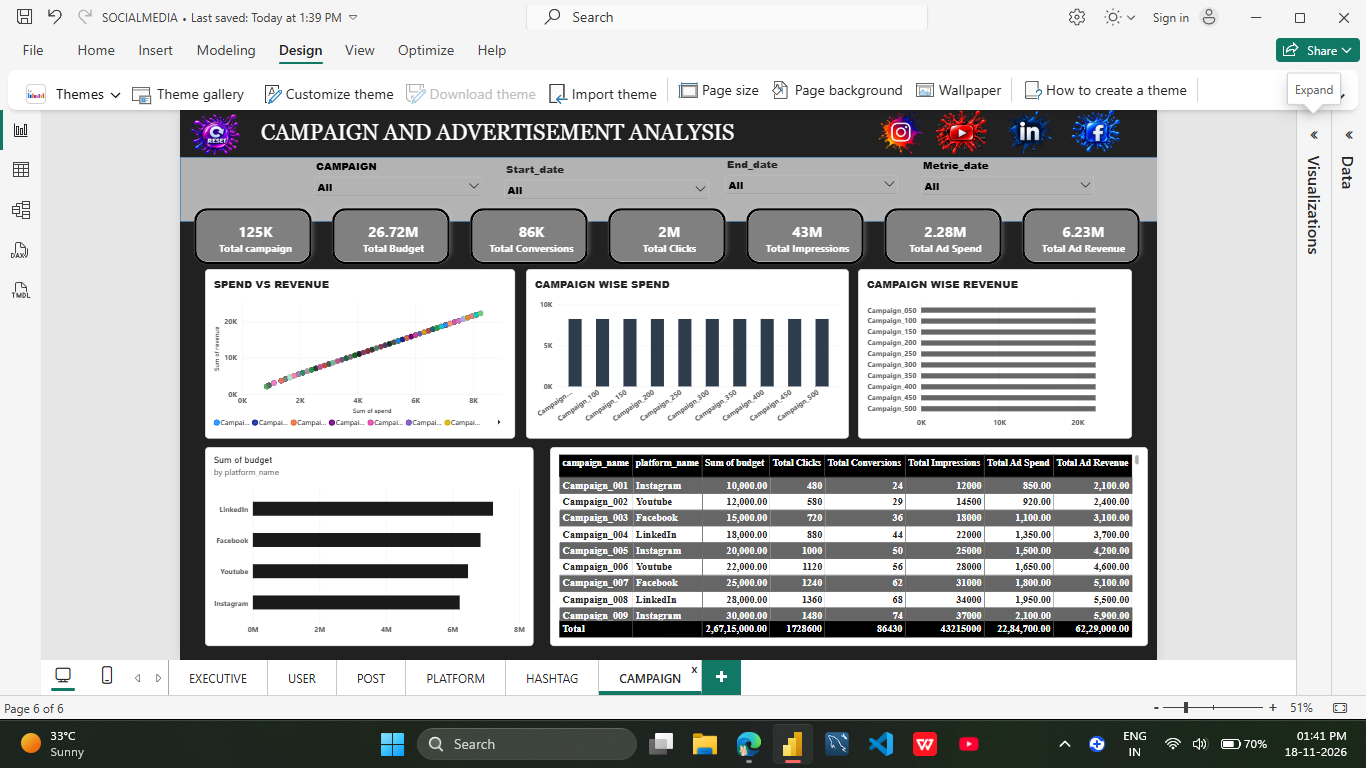

The page's visual inventory and layout, read from the dashboard file:
{"tool":"powerbi","page":{"name":"CAMPAIGN","canvas":[1920,1080],"ordinal":5},"visuals":[{"type":"shape","box":[0,91.5,1920,127.3],"z":0,"group":"g1"},{"type":"group","id":"g1","title":"Group 1","box":[0,91.5,1920,227.7],"z":0},{"type":"cardVisual","fields":{"Data":["social_media campaigns.Total campaign","social_media campaigns.Total Budget","social_media campaigns.Total Conversions","social_media campaigns.Total Clicks","social_media campaigns.Total Impressions","social_media campaigns.Total Ad Spend","social_media campaigns.Total Ad Revenue"]},"box":[11.2,176.7,1895.4,142.9],"z":1,"group":"g1"},{"type":"clusteredBarChart","title":"CAMPAIGN WISE REVENUE","fields":{"Category":["social_media campaigns.campaign_name"],"Y":["Sum(social_media adperformance.revenue)"]},"box":[1330.6,312.6,538,332.7],"z":1000},{"type":"clusteredColumnChart","title":"CAMPAIGN WISE SPEND","fields":{"Category":["social_media campaigns.campaign_name"],"Y":["Sum(social_media adperformance.spend)"]},"box":[678.7,312.6,634,332.7],"z":2000},{"type":"scatterChart","title":"SPEND VS REVENUE","fields":{"Series":["social_media campaigns.campaign_name"],"X":["Sum(social_media adperformance.spend)"],"Y":["Sum(social_media adperformance.revenue)"]},"box":[49.1,312.6,609.5,332.7],"z":3000},{"type":"clusteredBarChart","fields":{"Category":["social_media platforms.platform_name"],"Y":["Sum(social_media campaigns.budget)"]},"box":[49.1,660.8,645.2,390.7],"z":4000},{"type":"tableEx","fields":{"Values":["social_media campaigns.campaign_name","social_media platforms.platform_name","Sum(social_media campaigns.budget)","social_media campaigns.Total Clicks","social_media campaigns.Total Conversions","social_media campaigns.Total Impressions","social_media campaigns.Total Ad Spend","social_media campaigns.Total Ad Revenue"]},"box":[725.6,660.8,1174.3,390.7],"z":5000},{"type":"image","box":[1366.3,0,98.2,87.1],"z":6000},{"type":"image","box":[1484.7,0,100.5,87.1],"z":7000},{"type":"image","box":[1600.7,0,134,87.1],"z":8000},{"type":"image","box":[1750.3,0,97,83.8],"z":9000},{"type":"image","box":[10.8,0,121,96.8],"z":10000},{"type":"slicer","fields":{"Values":["social_media campaigns.campaign_name"]},"box":[259,96,339.3,73.7],"z":11000},{"type":"slicer","fields":{"Values":["social_media campaigns.end_date"]},"box":[1067.2,91.5,348.3,98.2],"z":11001},{"type":"slicer","fields":{"Values":["social_media campaigns.start_date"]},"box":[631.8,100.8,410.8,96],"z":11001,"group":"g1"},{"type":"slicer","fields":{"Values":["social_media adperformance.metric_date"]},"box":[1451.2,93.8,348.3,73.7],"z":11002},{"type":"textbox","box":[158.5,0,968.9,91.5],"z":11003}]}

Visuals, with their boxes on the page's 1920x1080 design canvas (x1, y1, x2, y2). These are canvas units, not pixel positions in the 1366x768 screenshot, which may show the page scaled, cropped or inside an application window:
shape: box(0, 92, 1920, 219)
"Group 1" group: box(0, 92, 1920, 319)
cardVisual - social_media campaigns.Total campaign x social_media campaigns.Total Budget: box(11, 177, 1907, 320)
"CAMPAIGN WISE REVENUE" clusteredBarChart: box(1331, 313, 1869, 645)
"CAMPAIGN WISE SPEND" clusteredColumnChart: box(679, 313, 1313, 645)
"SPEND VS REVENUE" scatterChart: box(49, 313, 659, 645)
clusteredBarChart - social_media platforms.platform_name x Sum(social_media campaigns.budget): box(49, 661, 694, 1052)
tableEx - social_media campaigns.campaign_name x social_media platforms.platform_name: box(726, 661, 1900, 1052)
image: box(1366, 0, 1464, 87)
image: box(1485, 0, 1585, 87)
image: box(1601, 0, 1735, 87)
image: box(1750, 0, 1847, 84)
image: box(11, 0, 132, 97)
slicer - social_media campaigns.campaign_name: box(259, 96, 598, 170)
slicer - social_media campaigns.end_date: box(1067, 92, 1416, 190)
slicer - social_media campaigns.start_date: box(632, 101, 1043, 197)
slicer - social_media adperformance.metric_date: box(1451, 94, 1800, 168)
textbox: box(158, 0, 1127, 92)
